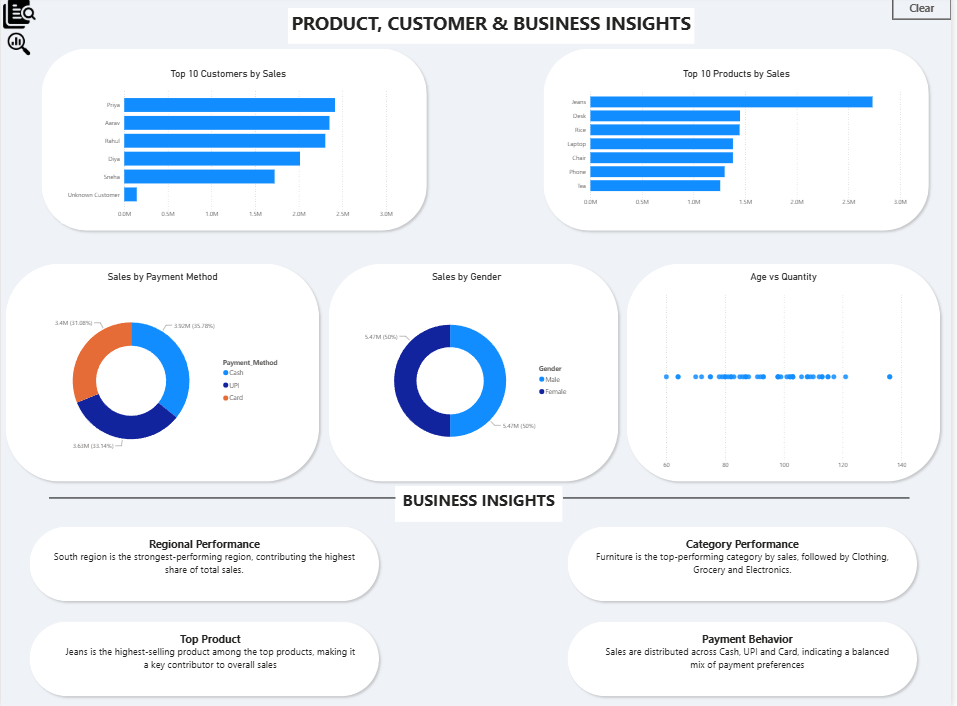

The page's visual inventory and layout, read from the dashboard file:
{"tool":"powerbi","page":{"name":"Product, Customer & Insights","canvas":[1910,1430],"ordinal":2},"visuals":[{"type":"shape","box":[1128,1248,720,168],"z":0},{"type":"shape","box":[1128,1056,720,168],"z":1000},{"type":"shape","box":[48,1248,720,168],"z":2000},{"type":"shape","box":[48,1056,720,168],"z":3000},{"type":"shape","box":[1248,528,648,456],"z":4000},{"type":"shape","box":[648,528,600,456],"z":5000},{"type":"shape","box":[0,528,648,456],"z":6000},{"type":"shape","box":[1080,96,792,384],"z":7000},{"type":"shape","box":[72,96,792,384],"z":8000},{"type":"donutChart","title":"Sales by Payment Method","fields":{"Category":["retail_sales_cleaned.Payment_Method"],"Y":["retail_sales_cleaned.Total Sales"]},"box":[72,552,504,408],"z":9000},{"type":"donutChart","title":"Sales by Gender","fields":{"Category":["retail_sales_cleaned.Gender"],"Y":["retail_sales_cleaned.Total Sales"]},"box":[720,552,432,408],"z":10000},{"type":"scatterChart","title":"Age vs Quantity","fields":{"Category":["retail_sales_cleaned.Age"],"X":["Sum(retail_sales_cleaned.Quantity)"]},"box":[1320,552,504,408],"z":11000},{"type":"clusteredBarChart","title":"Top 10 Customers by Sales","fields":{"Category":["retail_sales_cleaned.Customer_Name"],"Y":["retail_sales_cleaned.Total Sales"]},"box":[120,144,672,312],"z":12000},{"type":"clusteredBarChart","title":"Top 10 Products by Sales","fields":{"Category":["retail_sales_cleaned.Product_Name"],"Y":["retail_sales_cleaned.Total Sales"]},"box":[1128,144,696,288],"z":13000},{"type":"image","box":[0,72,72,48],"z":14000},{"type":"image","box":[0,0,72,72],"z":15000},{"type":"textbox","box":[576,24,816,72],"z":17000},{"type":"textbox","box":[96,1080,624,120],"z":18000},{"type":"textbox","box":[792,984,336,72],"z":19000},{"type":"shape","box":[96,984,696,48],"z":20000},{"type":"shape","box":[1128,984,696,48],"z":21000},{"type":"textbox","box":[1176,1080,624,120],"z":22000},{"type":"textbox","box":[120,1272,600,120],"z":23000},{"type":"textbox","box":[1200,1272,600,120],"z":24000},{"type":"actionButton","box":[1790,0,120,48],"z":24001}]}

Visuals, with their boxes on the page's 1910x1430 design canvas (x1, y1, x2, y2). These are canvas units, not pixel positions in the 957x706 screenshot, which may show the page scaled, cropped or inside an application window:
shape: BBox(1128, 1248, 1848, 1416)
shape: BBox(1128, 1056, 1848, 1224)
shape: BBox(48, 1248, 768, 1416)
shape: BBox(48, 1056, 768, 1224)
shape: BBox(1248, 528, 1896, 984)
shape: BBox(648, 528, 1248, 984)
shape: BBox(0, 528, 648, 984)
shape: BBox(1080, 96, 1872, 480)
shape: BBox(72, 96, 864, 480)
"Sales by Payment Method" donutChart: BBox(72, 552, 576, 960)
"Sales by Gender" donutChart: BBox(720, 552, 1152, 960)
"Age vs Quantity" scatterChart: BBox(1320, 552, 1824, 960)
"Top 10 Customers by Sales" clusteredBarChart: BBox(120, 144, 792, 456)
"Top 10 Products by Sales" clusteredBarChart: BBox(1128, 144, 1824, 432)
image: BBox(0, 72, 72, 120)
image: BBox(0, 0, 72, 72)
textbox: BBox(576, 24, 1392, 96)
textbox: BBox(96, 1080, 720, 1200)
textbox: BBox(792, 984, 1128, 1056)
shape: BBox(96, 984, 792, 1032)
shape: BBox(1128, 984, 1824, 1032)
textbox: BBox(1176, 1080, 1800, 1200)
textbox: BBox(120, 1272, 720, 1392)
textbox: BBox(1200, 1272, 1800, 1392)
actionButton: BBox(1790, 0, 1910, 48)
